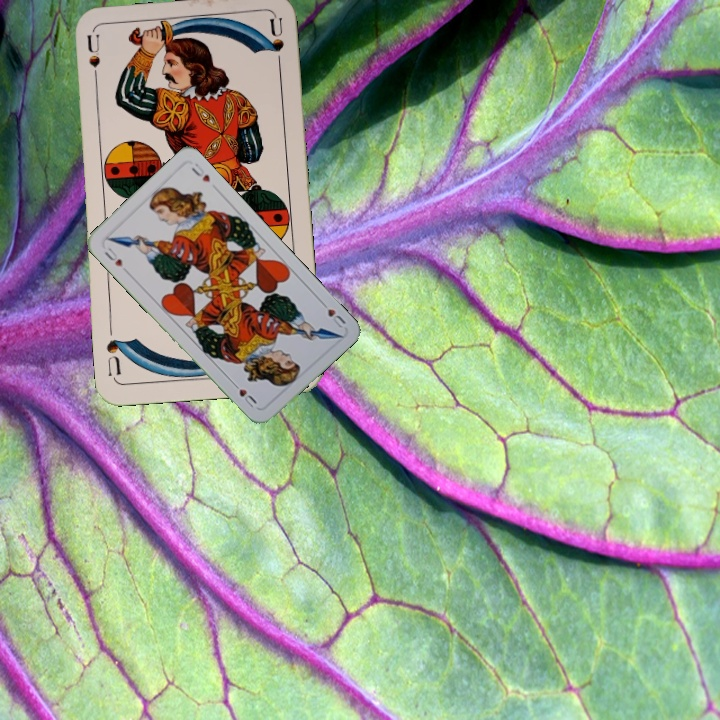HU: (316, 297, 349, 331), (100, 242, 126, 270)
SU: (83, 31, 103, 91)
